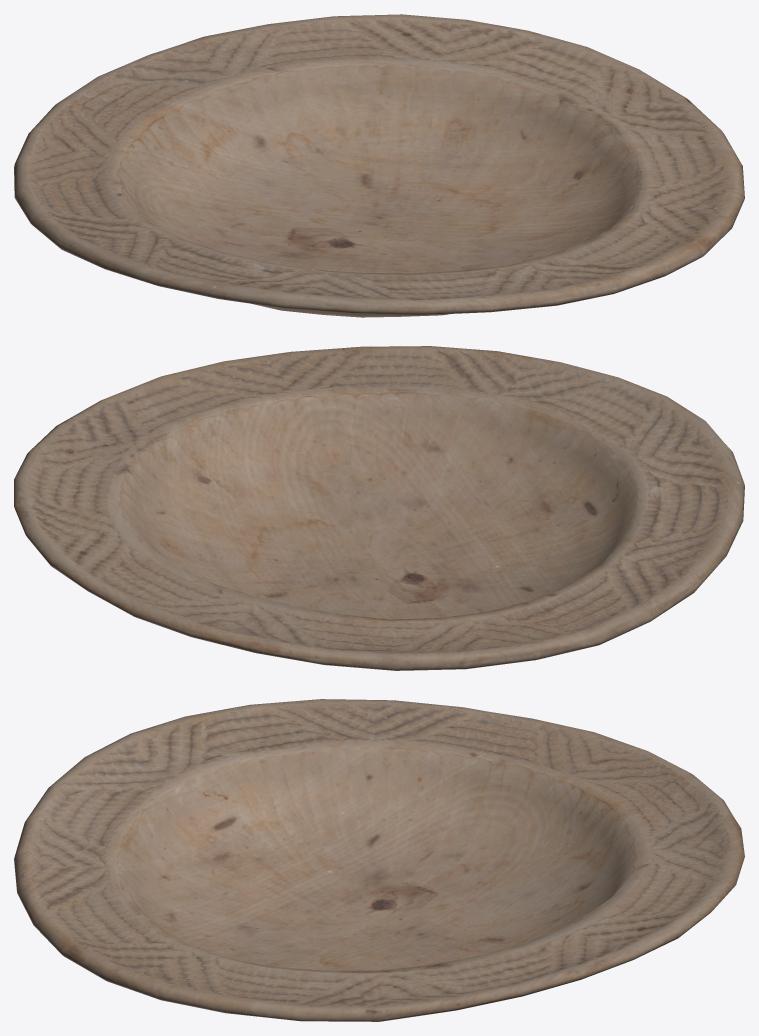
Rendered from carved_wooden_plate_1k.gltf.
3 renders of one model, top to bottom at view 1: azimuth 30°, elevation 25°; view 2: azimuth 150°, elevation 25°; view 3: azimuth 270°, elevation 25°, orthographic. The views are drawn at different scales.
Visible parts, largest first — view 1: carved_wooden_plate; view 2: carved_wooden_plate; view 3: carved_wooden_plate.
Boxes of the visible parts, x1=… form: carved_wooden_plate: x1=14, y1=14, x2=744, y2=317; carved_wooden_plate: x1=14, y1=346, x2=744, y2=670; carved_wooden_plate: x1=14, y1=699, x2=744, y2=1021.
Size of the model in its own units: 0.2718 by 0.0381 by 0.2688.
Materials: 1 (1 with a texture image).
